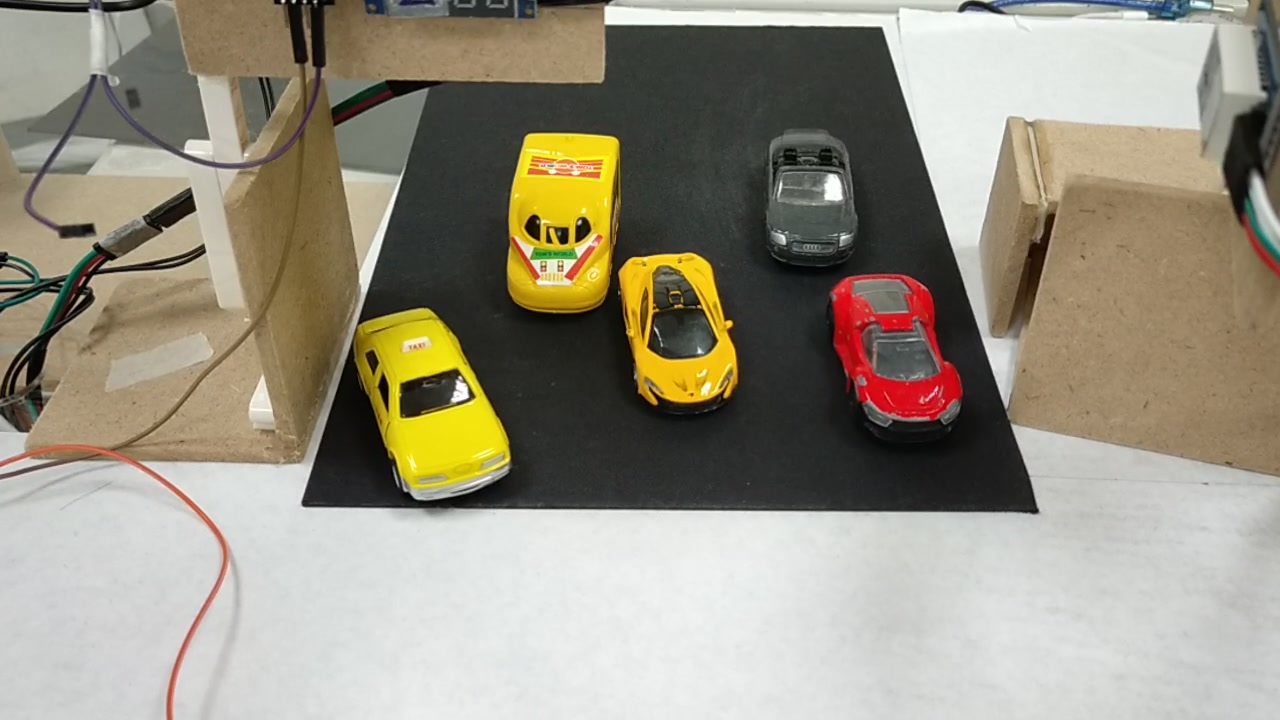car: (350, 315, 512, 509), (821, 267, 962, 438), (619, 251, 742, 414), (763, 126, 857, 261)
